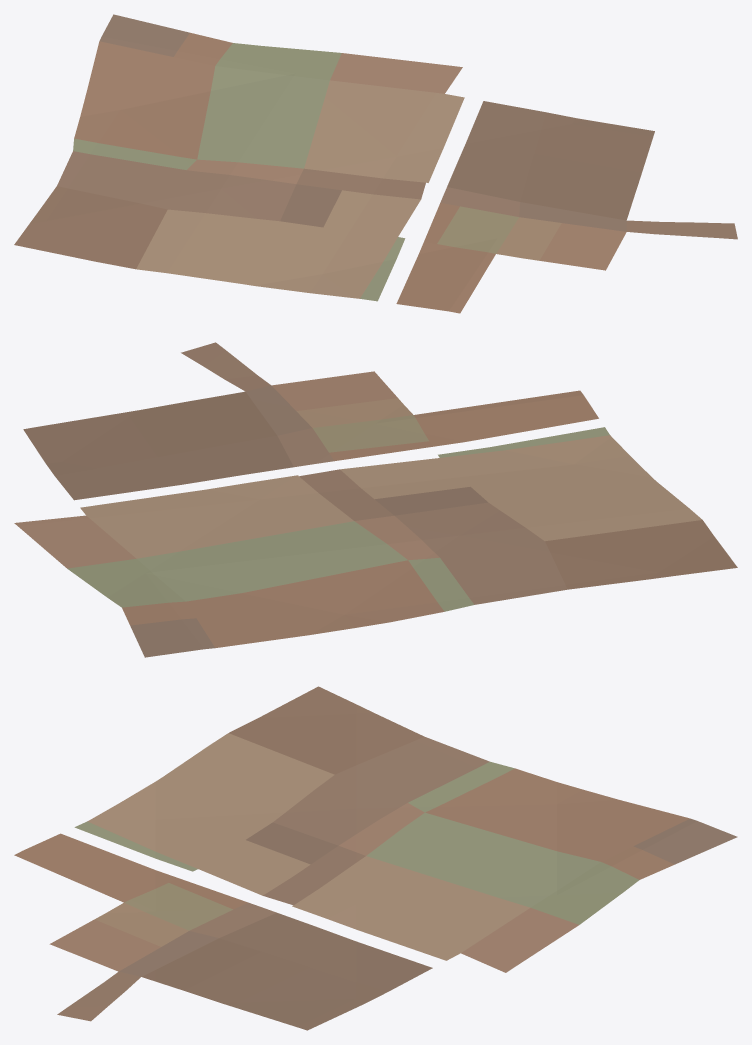
Rendered from farm_-33_-27_soil.glb.
3 renders of one model, top to bottom at view 1: azimuth 30°, elevation 25°; view 2: azimuth 150°, elevation 25°; view 3: azimuth 270°, elevation 25°, orthographic. The views are drawn at different scales.
Parts seen in each view (by area): view 1: geometry_0; view 2: geometry_0; view 3: geometry_0.
Part boxes in pixels (x1,y1,x2,y2): geometry_0: (14, 14, 737, 313); geometry_0: (14, 342, 737, 657); geometry_0: (14, 686, 737, 1030).
Bounding box in the file's own units: 290 × 18.57 × 289.
